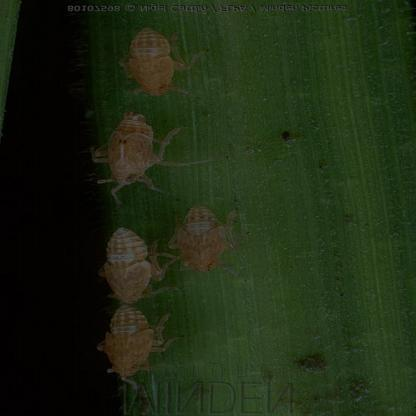brown-planthopper: (91, 110, 169, 200), (118, 27, 192, 101), (168, 206, 236, 276), (97, 226, 156, 304), (98, 307, 160, 377)
